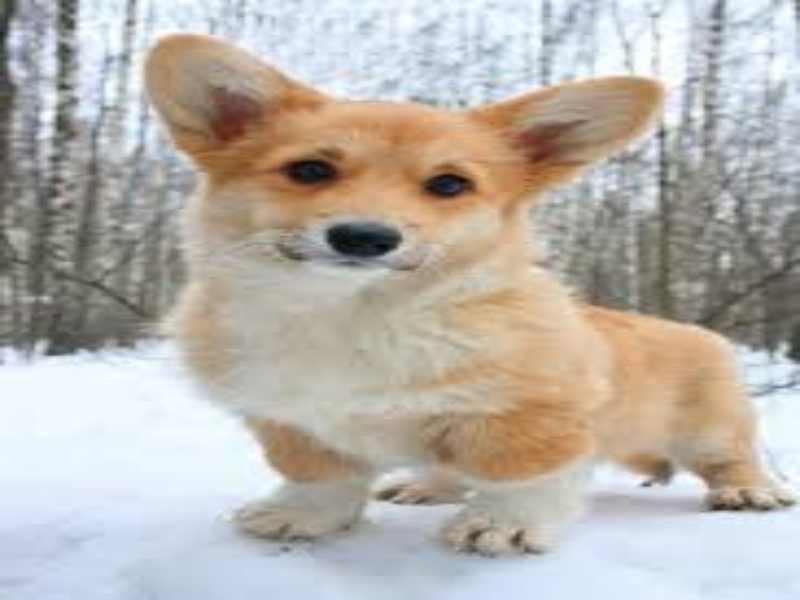dog: (129, 28, 800, 568)
